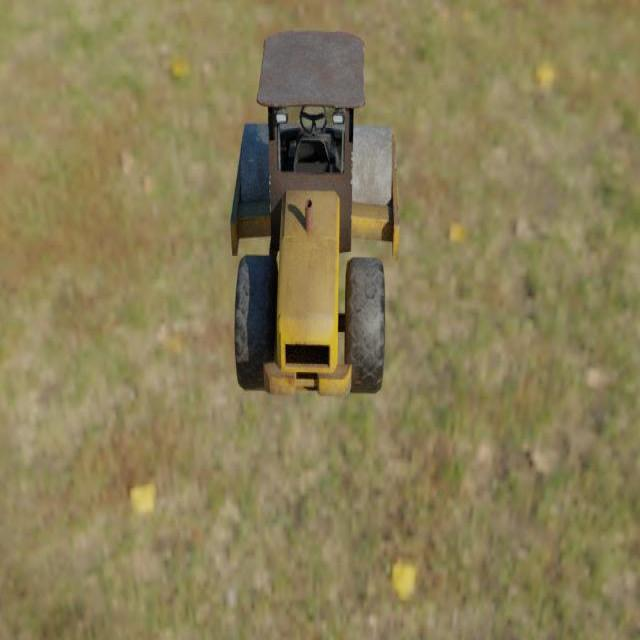Roller: (229, 29, 399, 396)
